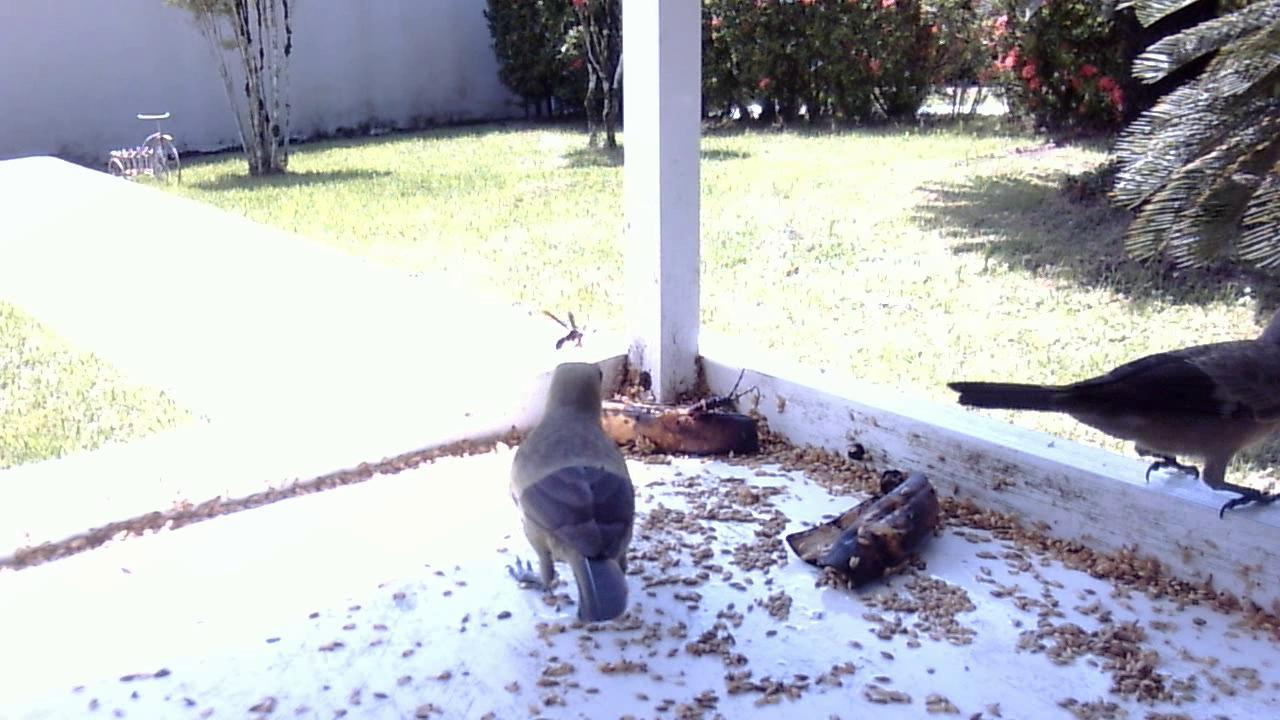sanhaco_do_coqueiro: (950, 256, 1268, 516), (494, 348, 646, 645)
